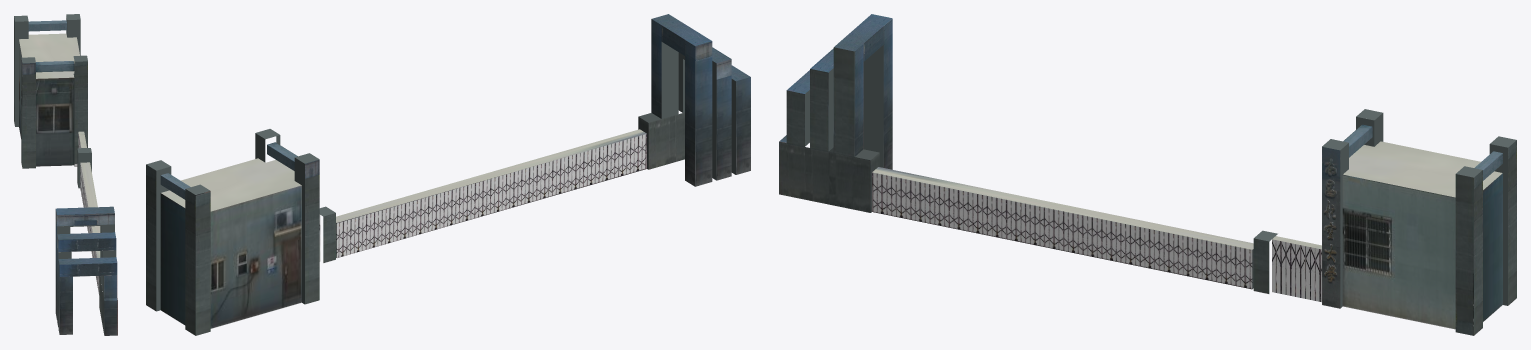
The picture shows the model from 3 angles, left to right: view 1: azimuth 30°, elevation 25°; view 2: azimuth 150°, elevation 25°; view 3: azimuth 270°, elevation 25°; orthographic projection. The views are drawn at different scales.
Parts seen in each view (by area): view 1: Mesh02#10, Mesh01#8, Mesh03#7, Mesh04#5; view 2: Mesh01#8, Mesh02#10, Mesh03#7; view 3: Mesh01#8, Mesh02#10, Mesh03#7.
Boxes of the visible parts, <box> form: Mesh02#10: <box>14,14,87,168</box>; Mesh01#8: <box>55,162,117,335</box>; Mesh03#7: <box>77,131,91,188</box>; Mesh04#5: <box>28,20,66,31</box>; Mesh01#8: <box>336,14,750,257</box>; Mesh02#10: <box>146,129,319,335</box>; Mesh03#7: <box>319,206,335,263</box>; Mesh01#8: <box>779,14,1253,289</box>; Mesh02#10: <box>1322,109,1516,335</box>; Mesh03#7: <box>1253,230,1321,302</box>.
Bounding box in the file's own units: 0.0141 × 0.006 × 0.0253.
5 materials, 4 textured.
